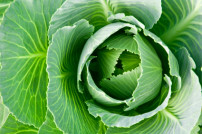cabbage: (0, 1, 201, 133)
